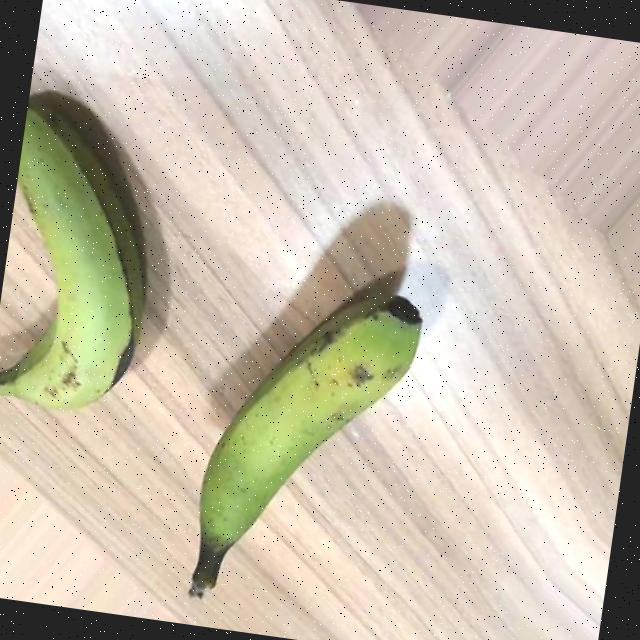Unripe: (185, 266, 428, 622), (0, 93, 173, 418)
